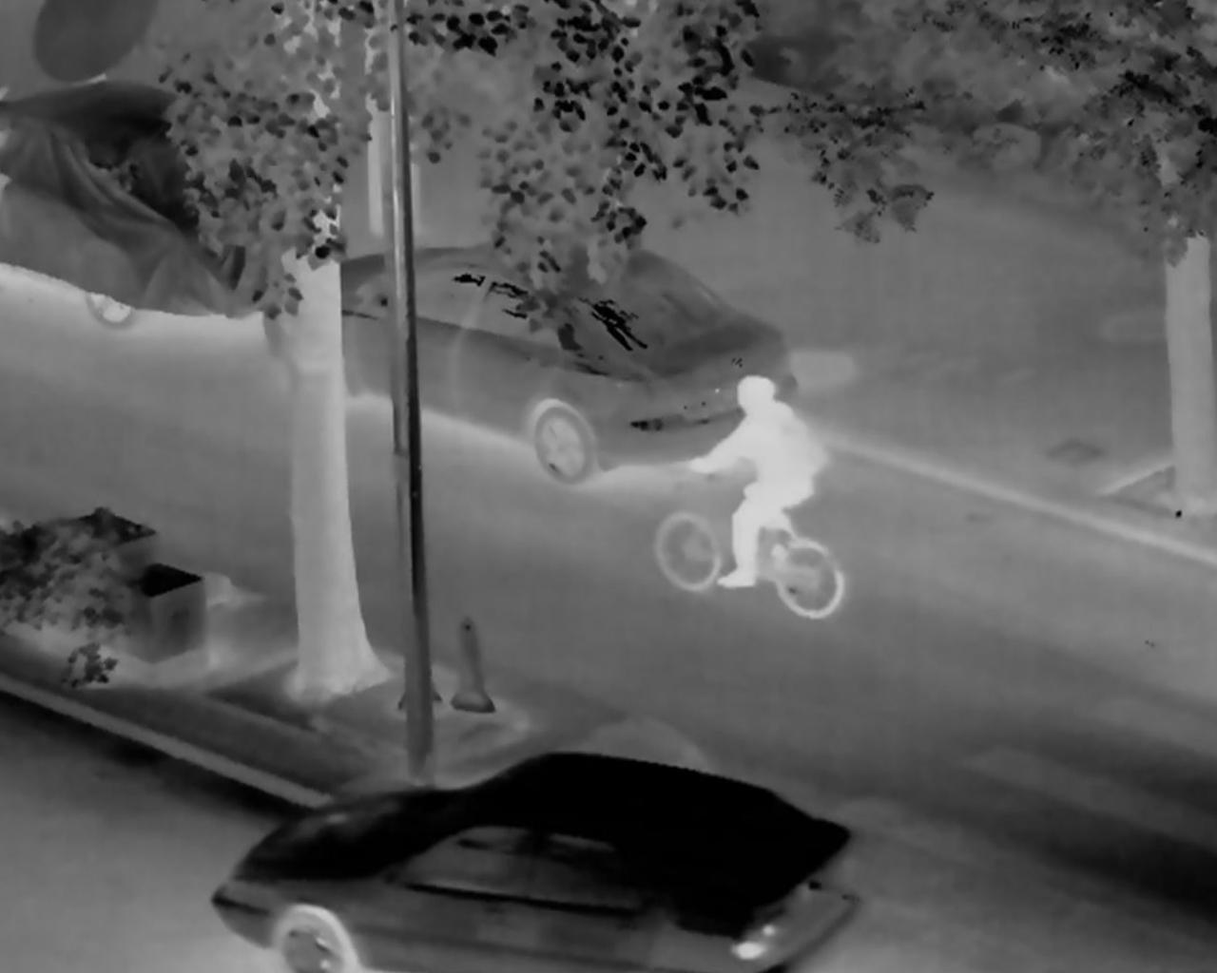person: (686, 377, 817, 588)
